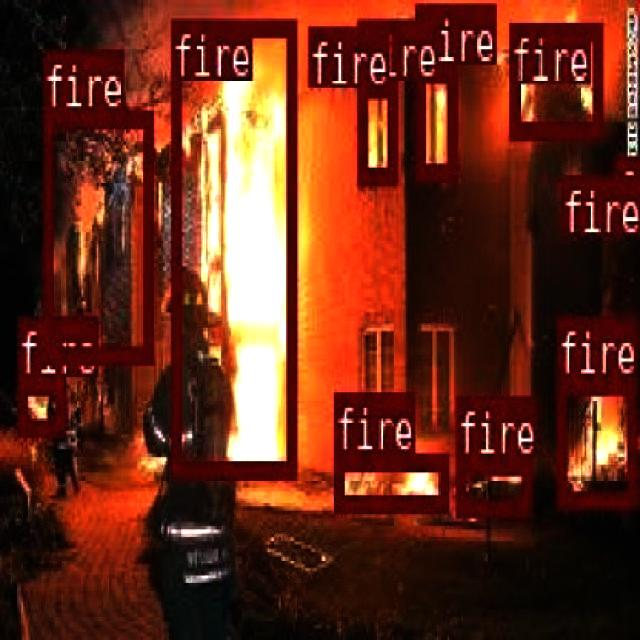fire: (170, 17, 293, 474), (42, 109, 150, 362), (507, 21, 601, 134), (555, 376, 634, 504), (333, 453, 447, 510), (413, 63, 455, 179), (454, 456, 530, 513), (356, 78, 396, 182), (306, 26, 380, 76), (17, 374, 63, 432), (613, 153, 636, 221), (560, 173, 580, 196)
